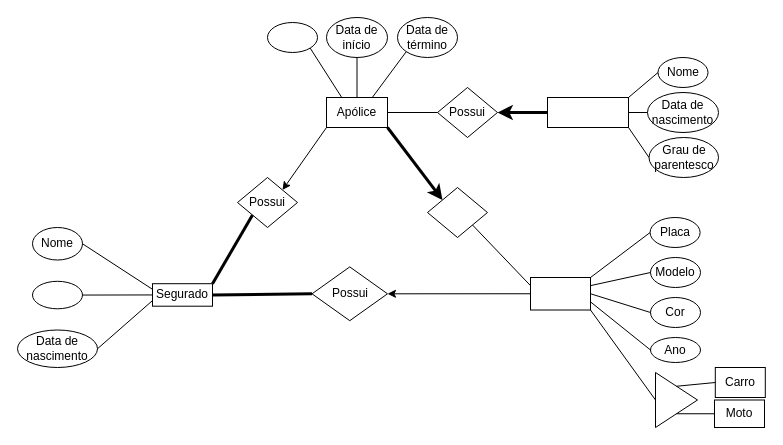
The diagram is 783 pixels wide and 445 high, and some of its shapes have lost their labels. Here are the shapes that lost their labels. From the top down, the box of each, then its label:
(266, 22, 318, 52): Preço
(546, 96, 628, 128): Dependente
(426, 186, 488, 238): Vínculo
(32, 280, 82, 309): CPF
(530, 276, 590, 310): Veículo
(654, 372, 698, 428): É um
